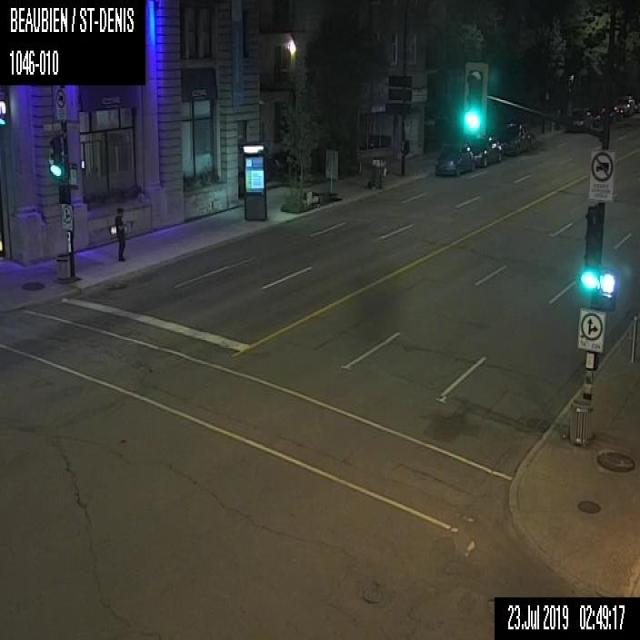pedestrian: (114, 207, 124, 261)
vehicle: (433, 143, 475, 176), (496, 121, 530, 156), (466, 133, 502, 166), (589, 103, 615, 125), (567, 110, 592, 130), (614, 93, 634, 116)
